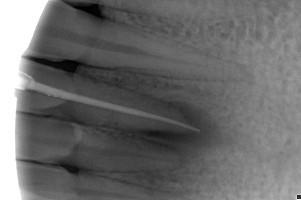Furcation Involvement: (141, 100, 224, 148)
